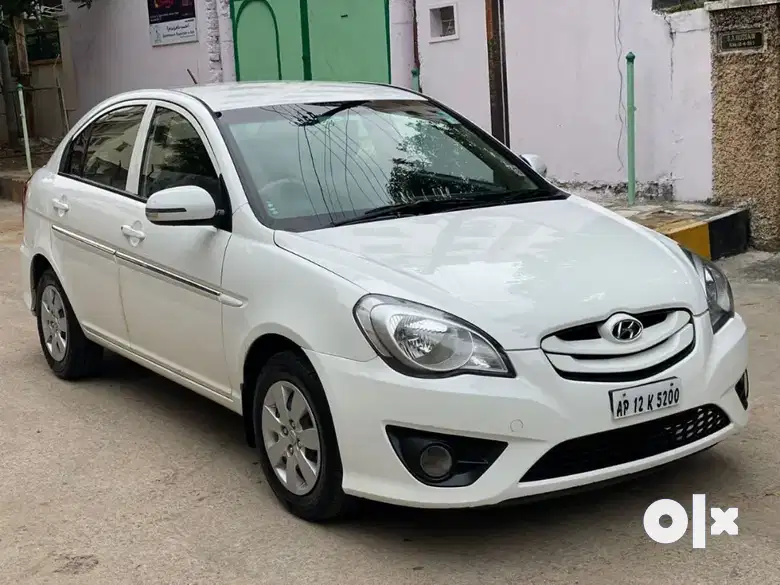car: (22, 78, 766, 512)
numberplate: (607, 376, 682, 422)
